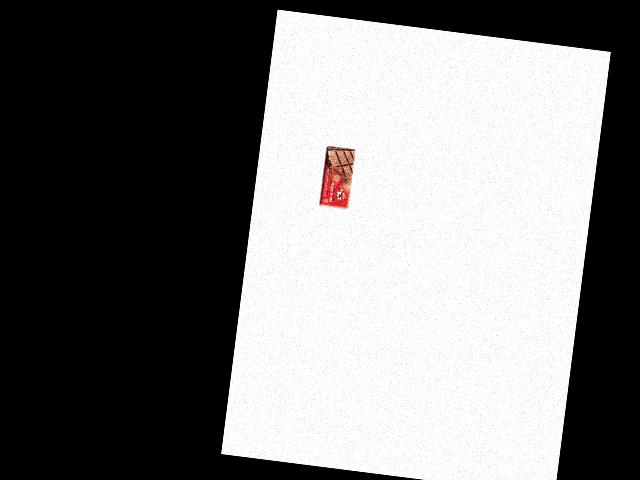chocolate: (318, 144, 357, 210)
